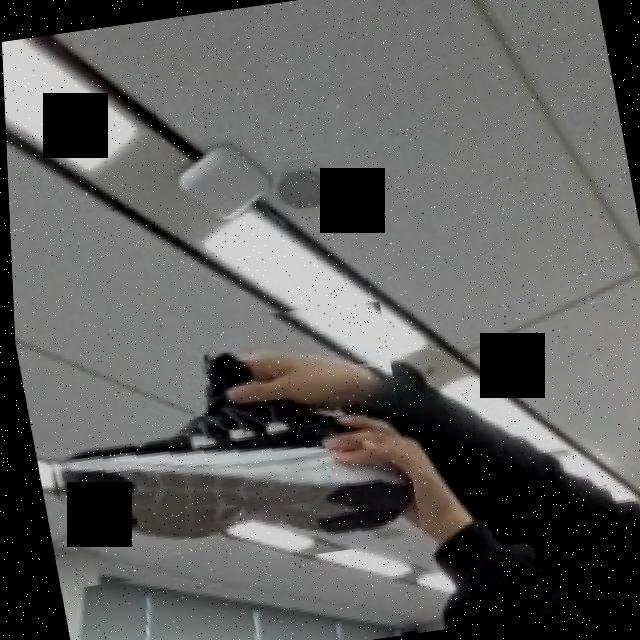shoe: (17, 290, 420, 590)
